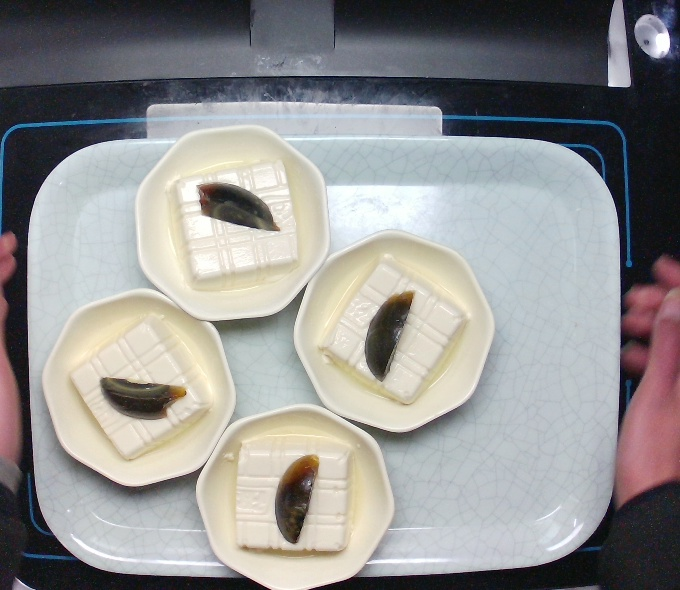wcq-PiDanDouFu: (315, 254, 466, 403), (74, 319, 211, 459), (163, 156, 302, 289), (225, 430, 362, 560)
